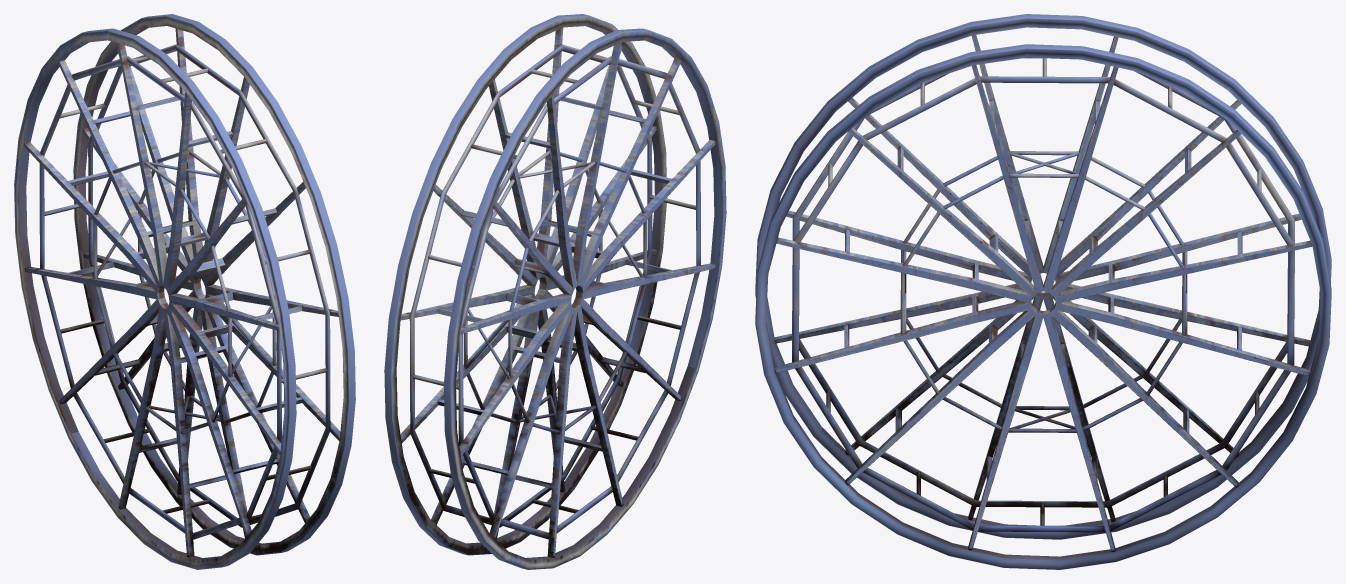
Rendered from wheel2.obj.
3 renders of one model, left to right at view 1: azimuth 30°, elevation 25°; view 2: azimuth 150°, elevation 25°; view 3: azimuth 270°, elevation 25°, orthographic. The views are drawn at different scales.
Parts seen in each view (by area): view 1: Arm.001_T_ArmsNStuff_0; view 2: Arm.001_T_ArmsNStuff_0; view 3: Arm.001_T_ArmsNStuff_0.
Boxes of the visible parts, bbox=[...] form: Arm.001_T_ArmsNStuff_0: bbox=[14, 14, 355, 569]; Arm.001_T_ArmsNStuff_0: bbox=[384, 14, 726, 569]; Arm.001_T_ArmsNStuff_0: bbox=[755, 14, 1331, 569].
Size of the model in its own units: 3.2 by 22.89 by 22.89.
